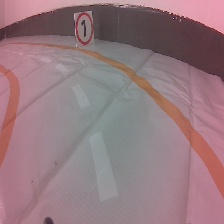limit: (71, 11, 99, 53)
